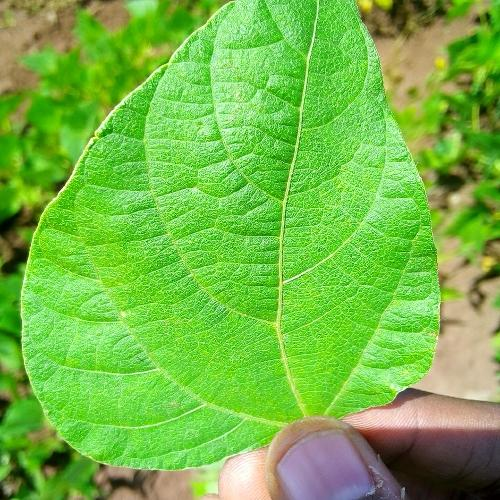sehat: (67, 52, 399, 484)
